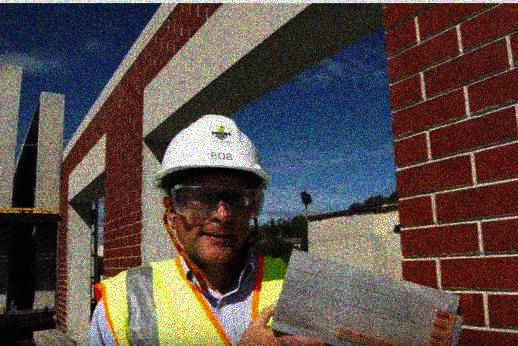helmet: (156, 112, 270, 264)
